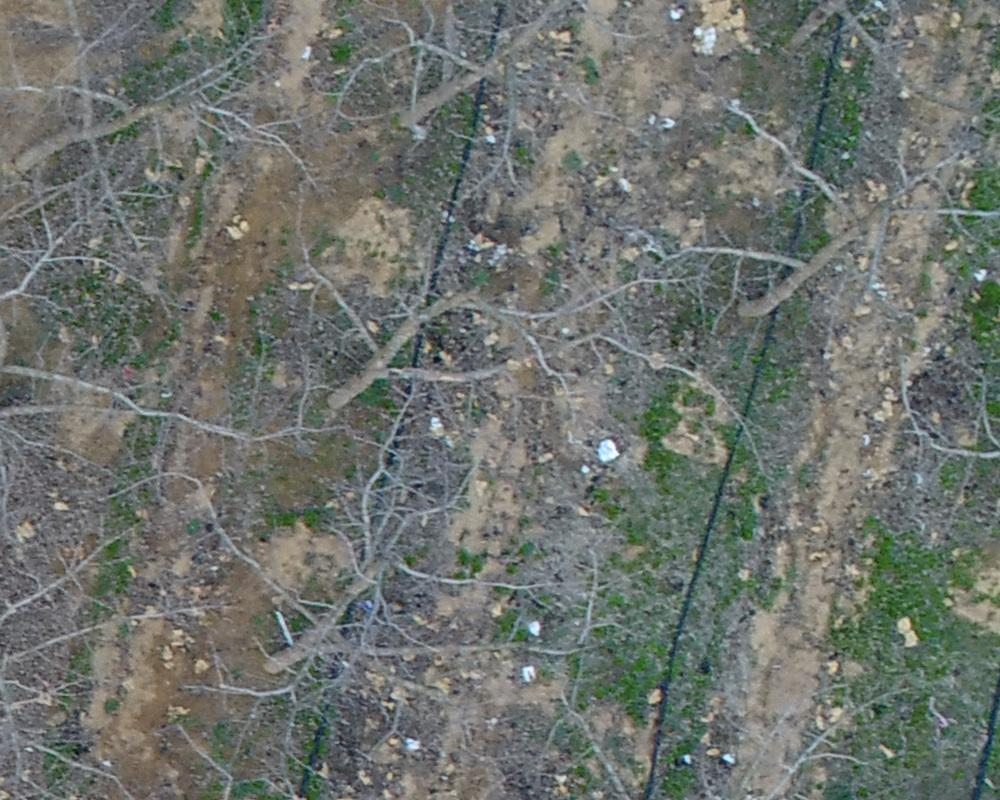apple: (218, 381, 630, 763), (272, 202, 760, 472), (10, 163, 354, 534), (627, 105, 990, 356), (10, 10, 343, 244), (10, 545, 241, 790), (346, 10, 594, 206), (532, 682, 920, 790)
